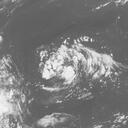cyclone: (37, 38, 118, 89)
